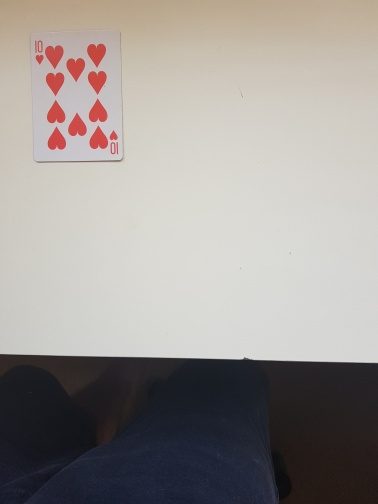ten: (29, 28, 124, 163)
